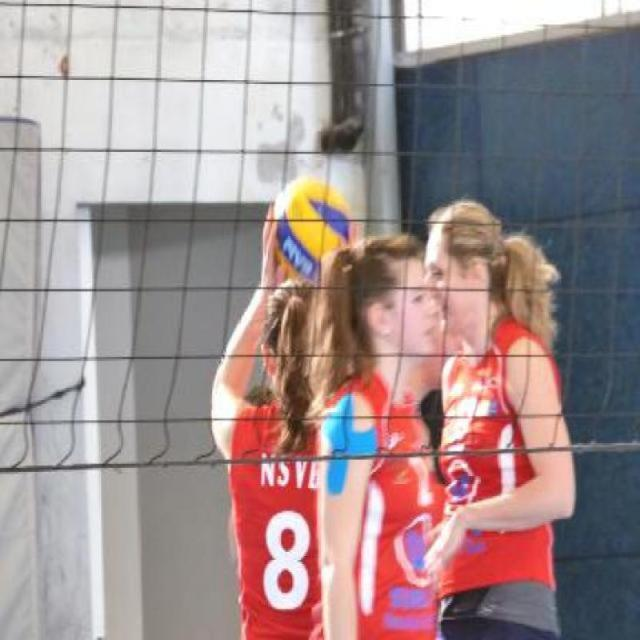volleyball: (270, 172, 350, 283)
